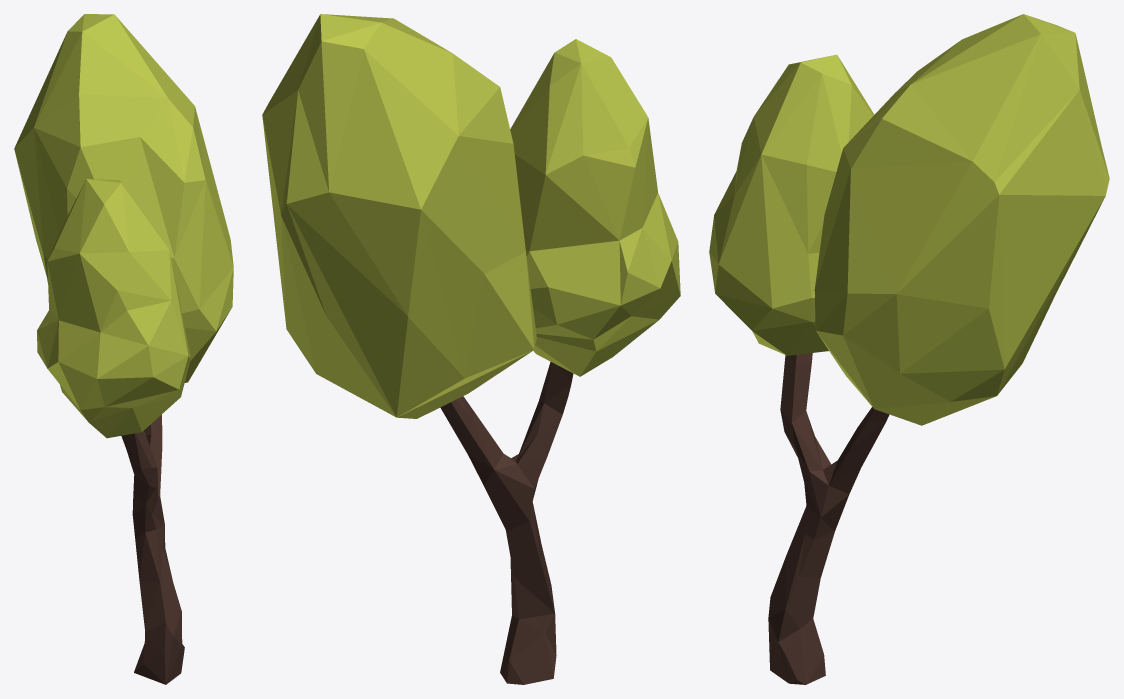
The model's file is New_Tree_9.fbx.
3 views of the same model, side by side, from view 1: azimuth 30°, elevation 25°; view 2: azimuth 150°, elevation 25°; view 3: azimuth 270°, elevation 25° (orthographic). The views are drawn at different scales.
Visible parts, largest first — view 1: Icosphere.083, Icosphere.084, Cube.015; view 2: Icosphere.083, Icosphere.084, Cube.015; view 3: Icosphere.083, Icosphere.084, Cube.015.
Part boxes in pixels (<box>): Icosphere.083: <box>14,14,233,382</box>; Icosphere.084: <box>37,179,190,438</box>; Cube.015: <box>121,414,184,684</box>; Icosphere.083: <box>262,14,536,418</box>; Icosphere.084: <box>510,39,680,376</box>; Cube.015: <box>440,361,573,684</box>; Icosphere.083: <box>814,14,1109,425</box>; Icosphere.084: <box>709,54,874,355</box>; Cube.015: <box>768,353,889,684</box>.
Bounding box in the file's own units: 232 × 558 × 301.
